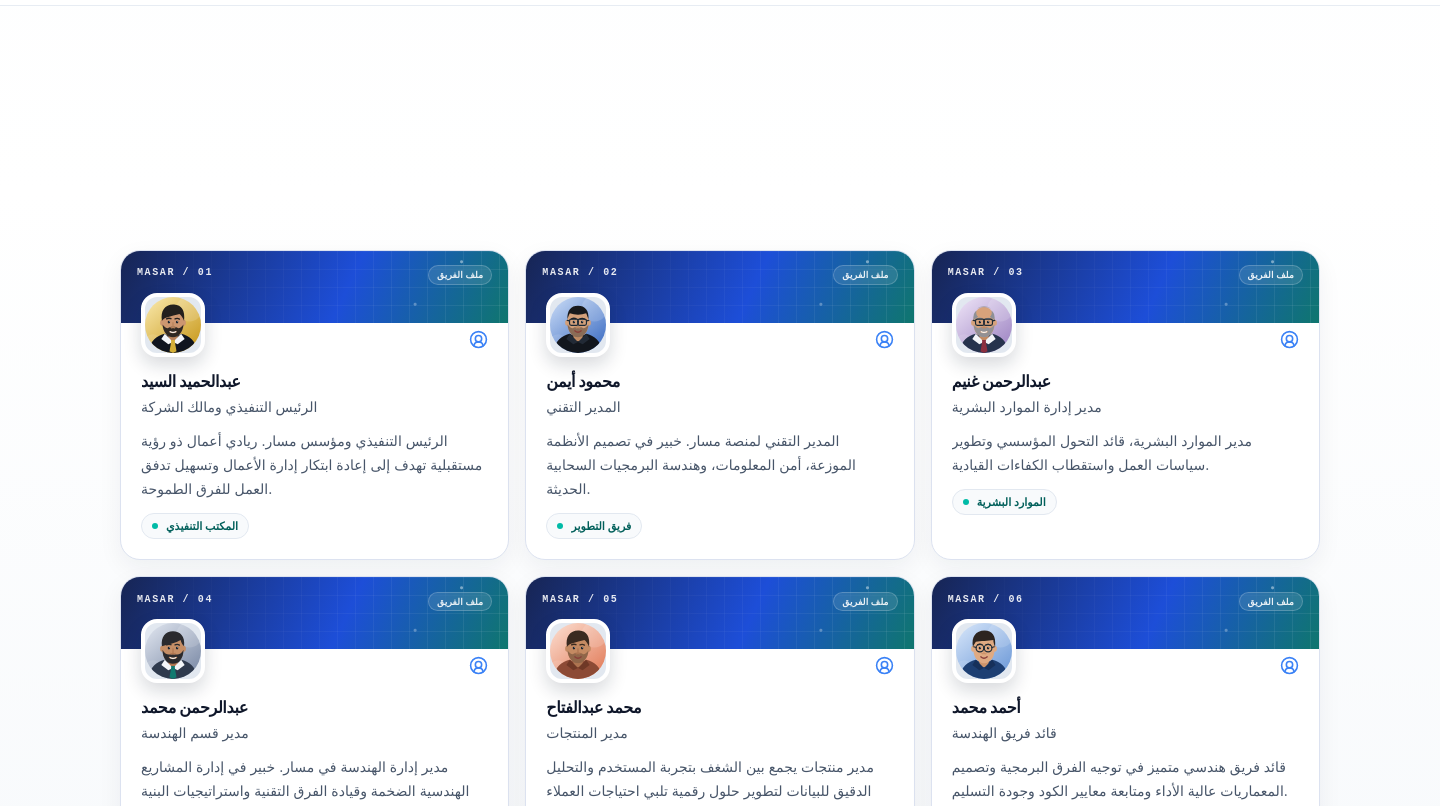
Scenario: CompanyLandingPage › shows the same details in Arabic when the interface is Arabic
(page scrolled)
Click the button "محمود أيمن".
click(720, 287)  # box [525, 250, 915, 560]
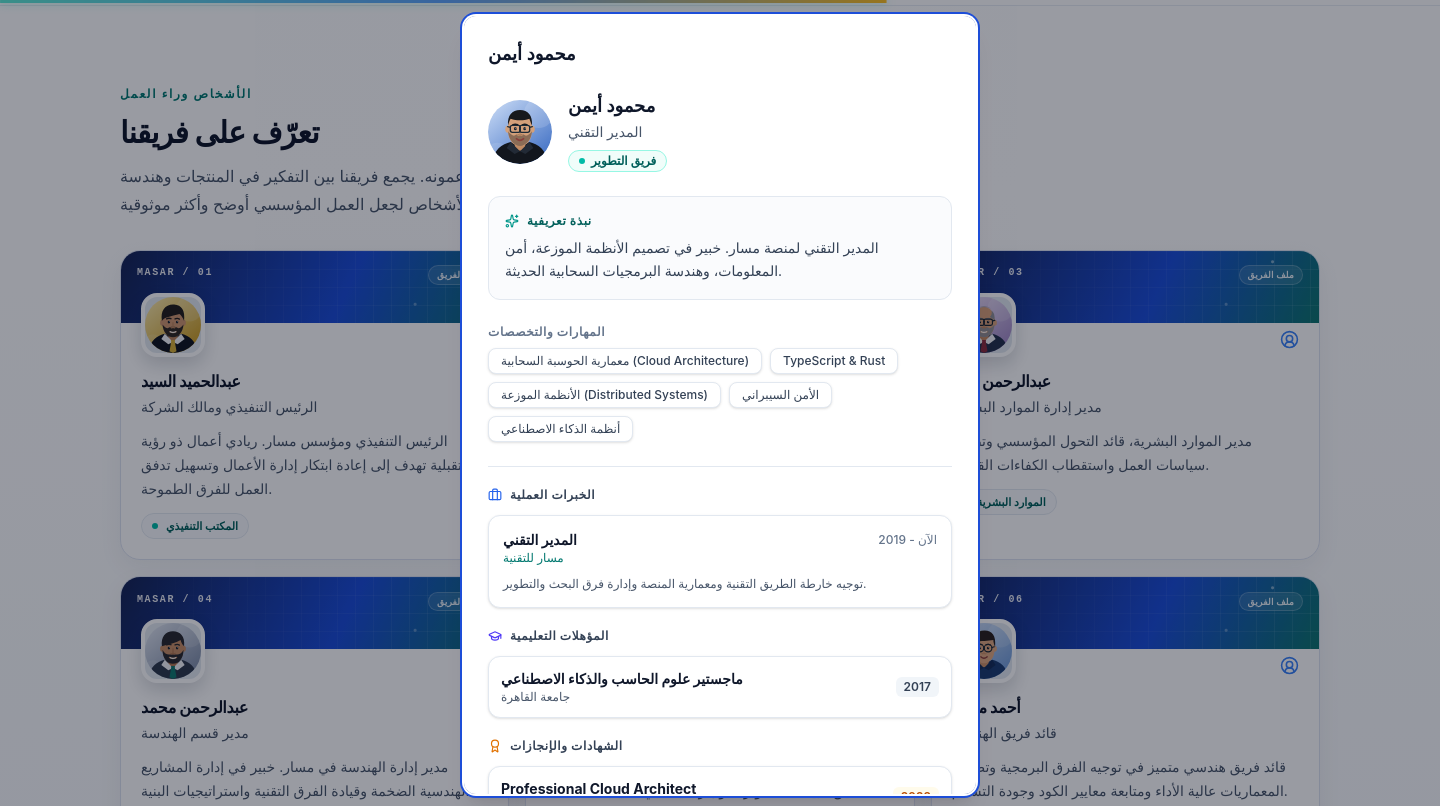
Check: the text "ماجستير علوم الحاسب والذكاء الاصطناعي" is shown, box [501, 669, 743, 689]
Check: the heading "المدير التقني" is shown, box [503, 530, 577, 550]
